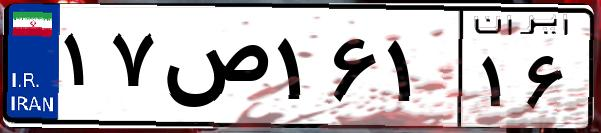1: (270, 28, 330, 110), (385, 28, 445, 110), (57, 26, 110, 100), (475, 38, 525, 113)
6: (330, 28, 385, 110), (525, 38, 570, 115)
7: (110, 28, 158, 98)
ص: (158, 20, 270, 120)
